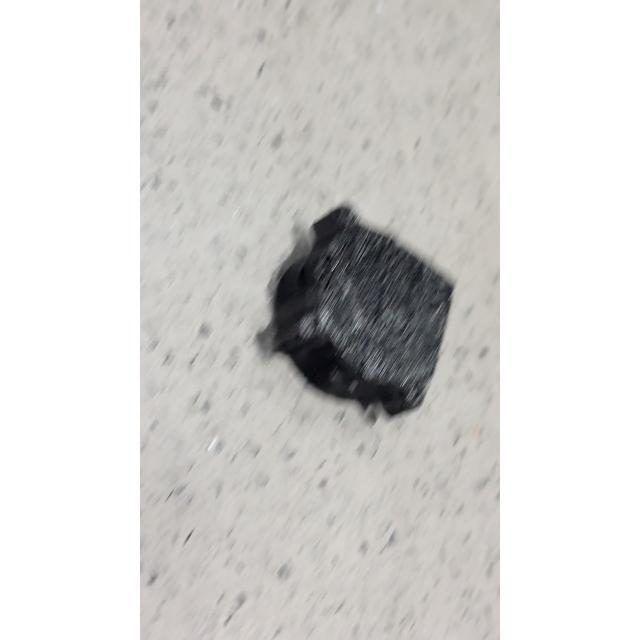Pieza3: (256, 200, 464, 422)
